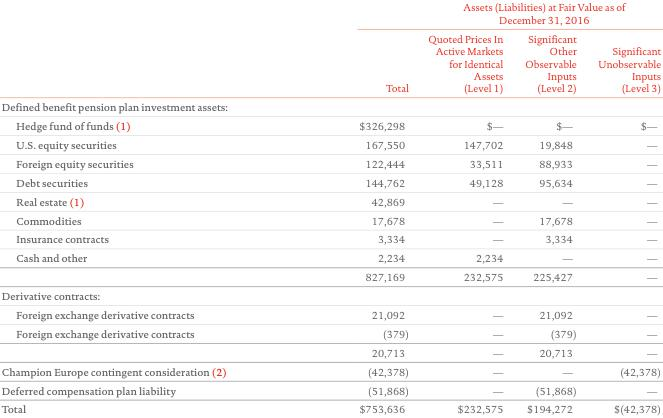table: (0, 0, 660, 414)
table column: (0, 0, 292, 414), (292, 0, 417, 414), (417, 0, 513, 414), (586, 0, 660, 414), (513, 0, 586, 414)
table column header: (0, 0, 660, 97)
table projected row header: (0, 97, 660, 116), (0, 286, 660, 304)
table row: (0, 28, 660, 97), (0, 0, 660, 28), (0, 97, 660, 116), (0, 134, 660, 153), (0, 153, 660, 172), (0, 172, 660, 191), (0, 191, 660, 210), (0, 210, 660, 229), (0, 229, 660, 248), (0, 248, 660, 267), (0, 267, 660, 286), (0, 304, 660, 323), (0, 323, 660, 342), (0, 342, 660, 361), (0, 361, 660, 380), (0, 380, 660, 399), (0, 116, 660, 134), (0, 286, 660, 304), (0, 399, 660, 414)
table spanning cell: (292, 0, 417, 97), (417, 0, 660, 28)
